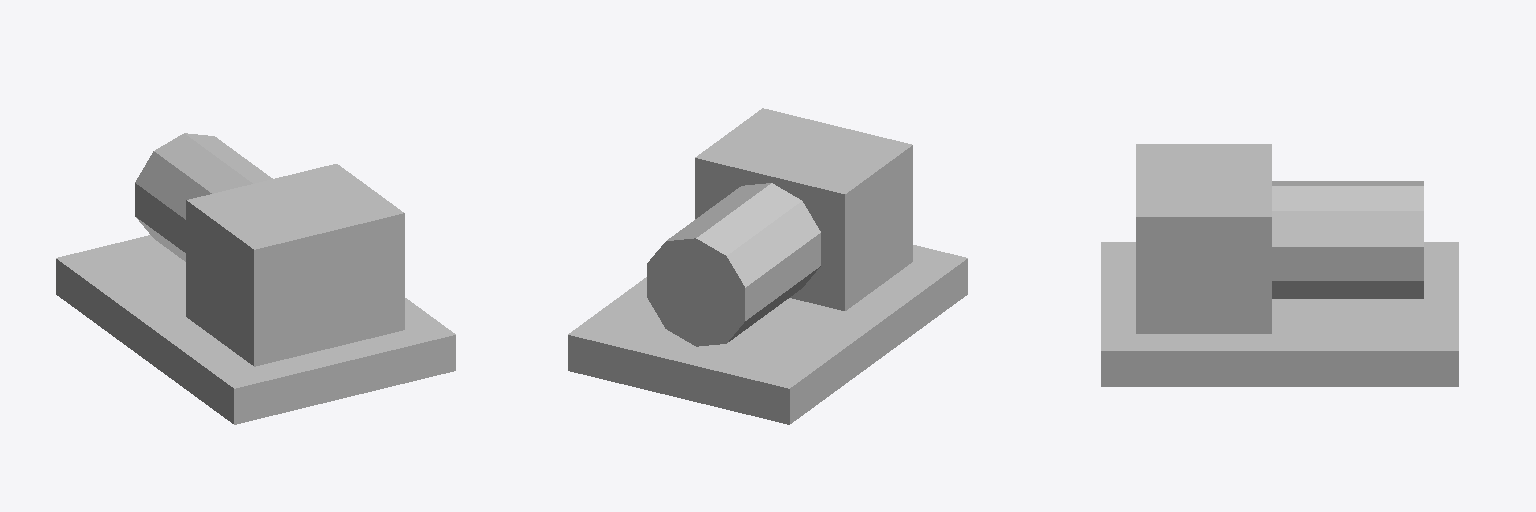
Rendered from Black Box 1.obj.
3 views of the same model, side by side, from view 1: azimuth 30°, elevation 25°; view 2: azimuth 150°, elevation 25°; view 3: azimuth 270°, elevation 25° (orthographic).
Parts seen in each view (by area): view 1: Cube_Cube.001, Cylinder_Cylinder.001; view 2: Cube_Cube.001, Cylinder_Cylinder.001; view 3: Cube_Cube.001, Cylinder_Cylinder.001.
Part boxes in pixels (x1,y1,x2,y2): Cube_Cube.001: (56,164,455,424); Cylinder_Cylinder.001: (135,133,272,261); Cube_Cube.001: (568,108,967,424); Cylinder_Cylinder.001: (647,183,820,346); Cube_Cube.001: (1101,144,1458,386); Cylinder_Cylinder.001: (1272,181,1423,298).
Bounding box in the file's own units: 2.37 × 1.56 × 3.31.